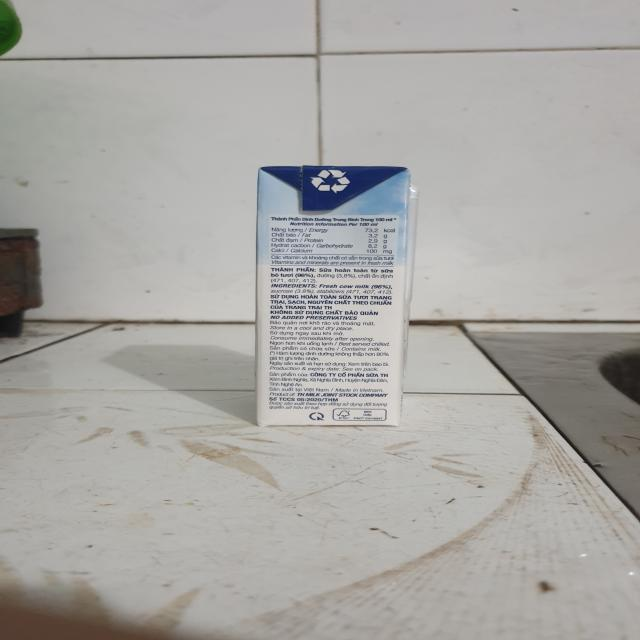TH: (252, 165, 426, 431)
